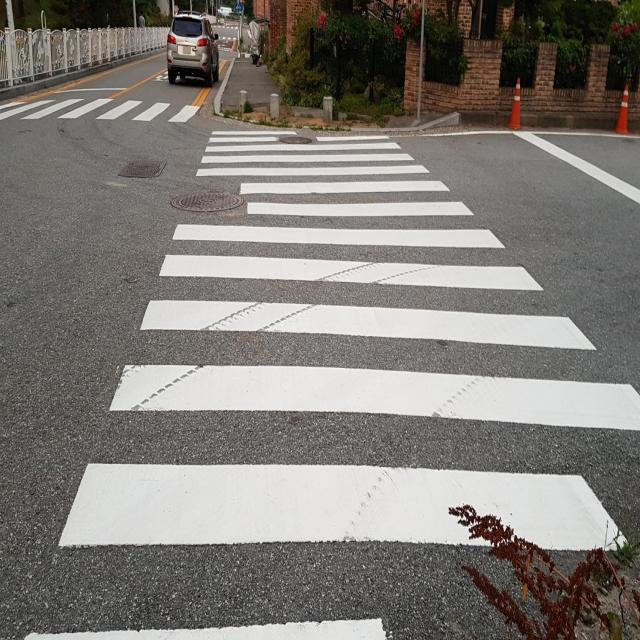횡단보도: (21, 128, 640, 640), (1, 98, 206, 126)
